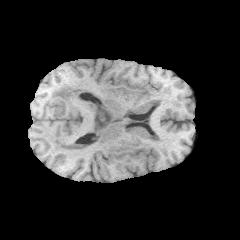glioma: (44, 81, 181, 172)
